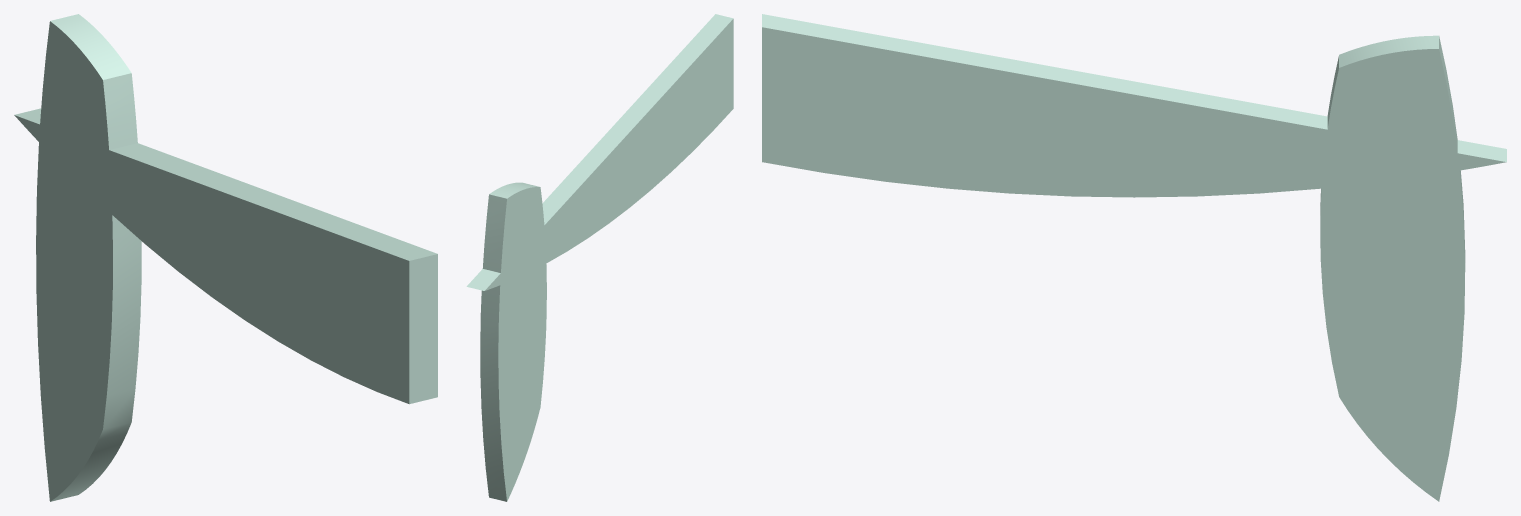
3 renders of one model, left to right at view 1: azimuth 30°, elevation 25°; view 2: azimuth 150°, elevation 25°; view 3: azimuth 270°, elevation 25°, orthographic. The views are drawn at different scales.
Visible parts, largest first — view 1: Renderer Node; view 2: Renderer Node; view 3: Renderer Node.
Boxes of the visible parts, x1,y1,x2,y2 form: Renderer Node: (14, 14, 437, 501); Renderer Node: (466, 14, 733, 501); Renderer Node: (762, 14, 1506, 501).
Size of the model in its own units: 0.0469 by 0.7859 by 1.12.
